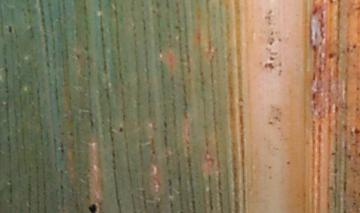tarspot: (88, 203, 97, 213), (59, 143, 65, 154), (7, 23, 13, 33), (118, 125, 124, 133), (59, 183, 64, 190)
